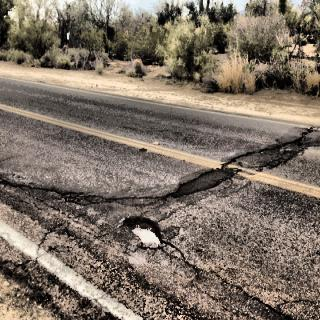alligator-crack: (149, 112, 320, 205), (1, 170, 118, 300), (181, 251, 296, 320)
pothole: (120, 213, 168, 260)
